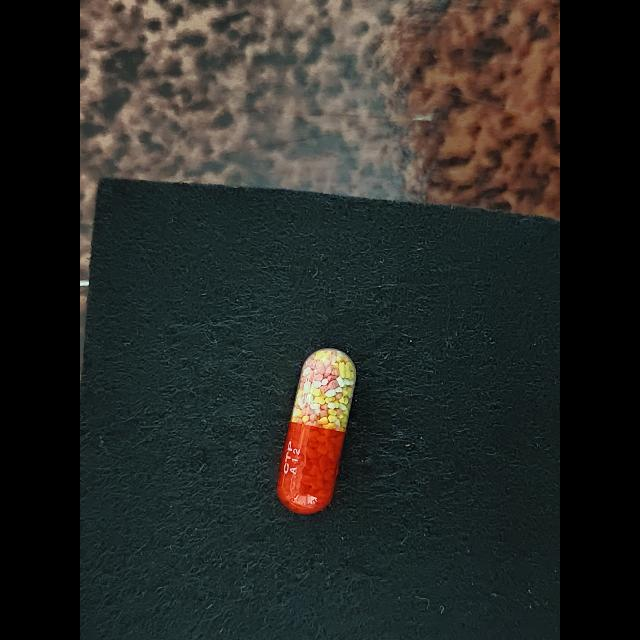Intact Capsule: (276, 348, 356, 515)
